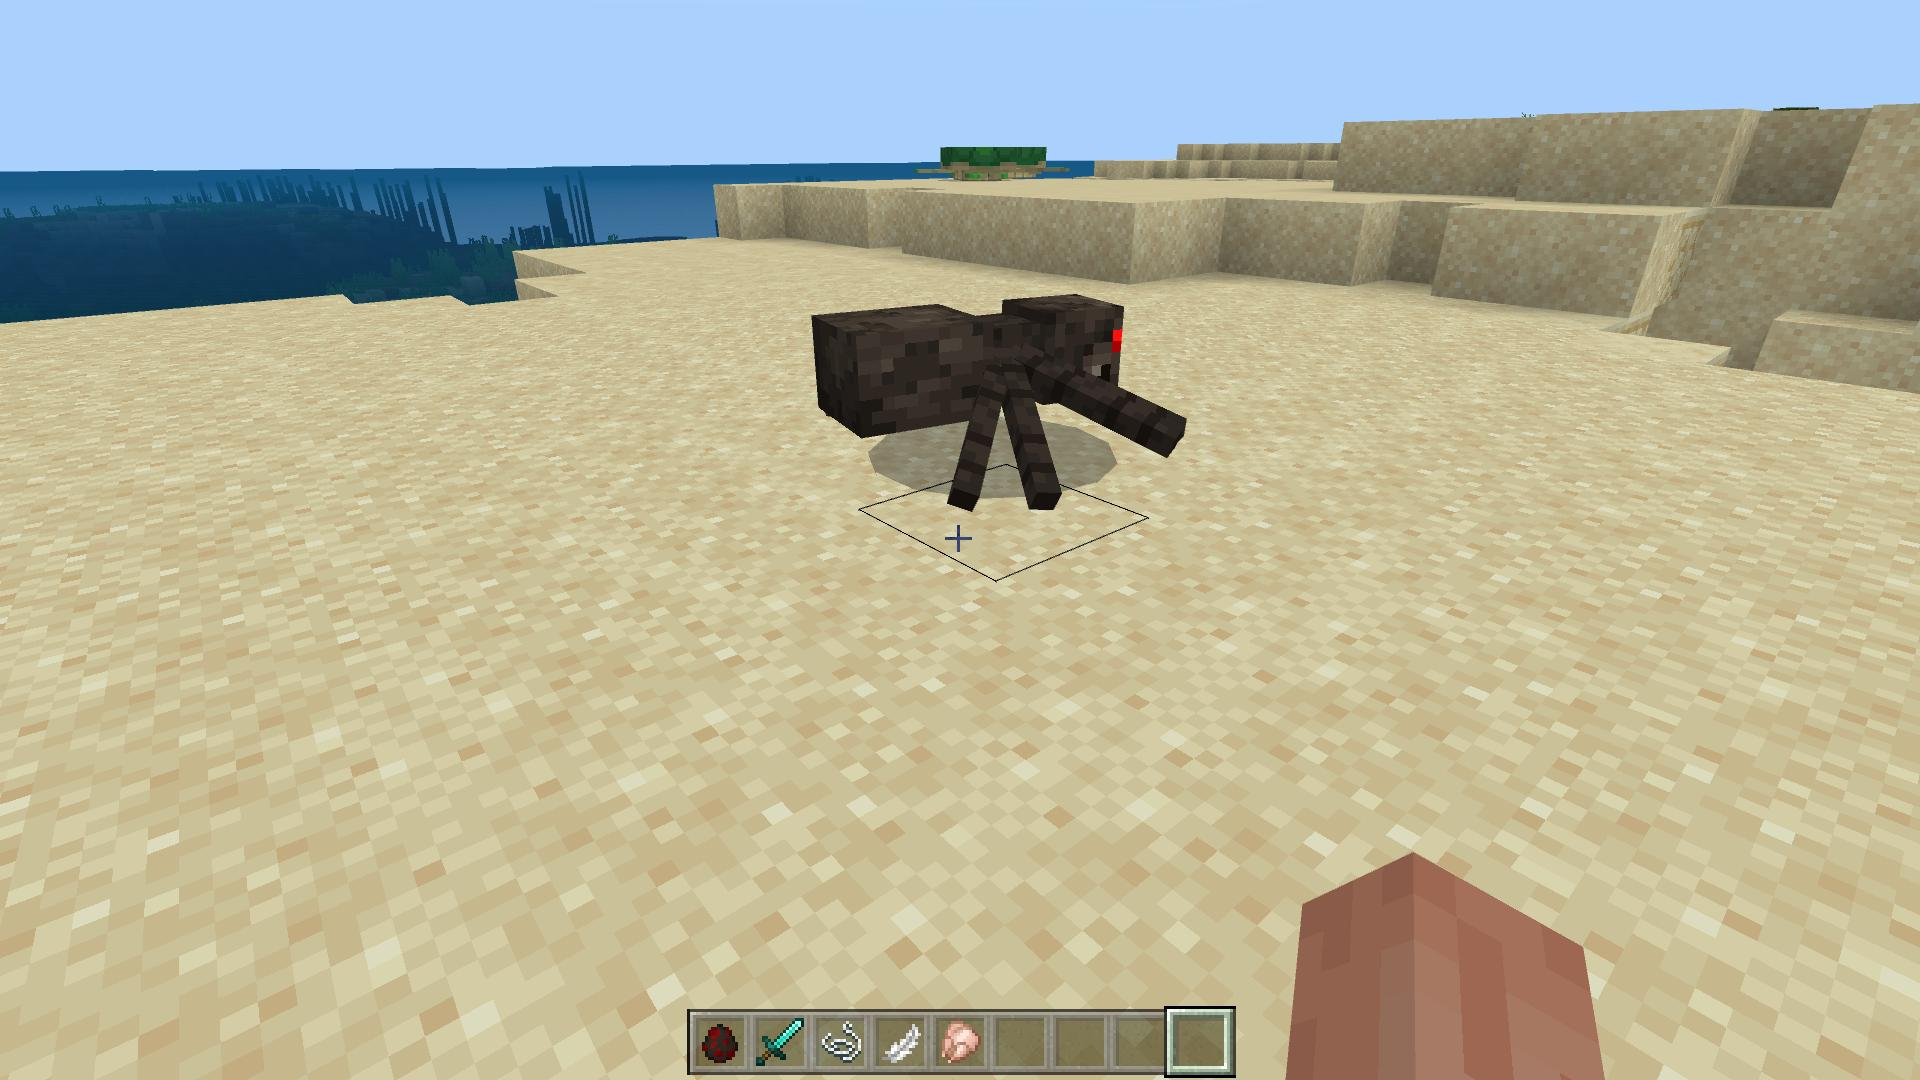spider: (808, 291, 1196, 518)
